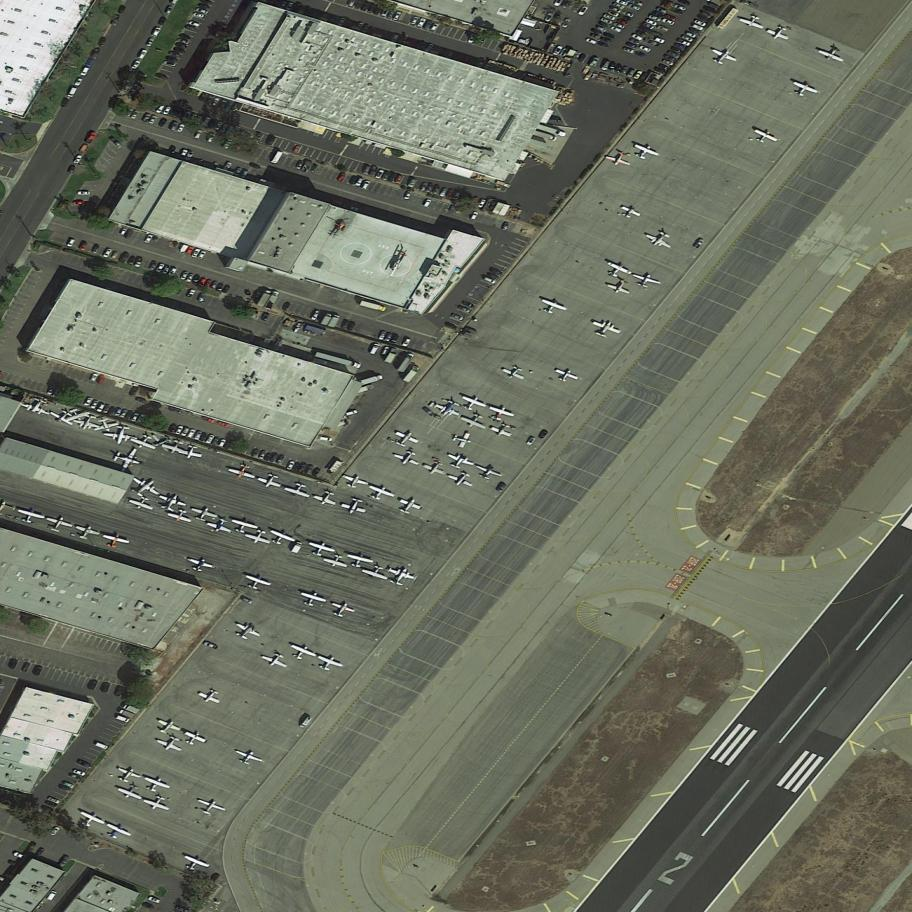large-vehicle: (313, 350, 363, 371), (531, 121, 567, 140), (397, 351, 416, 376), (325, 456, 346, 478), (402, 363, 421, 386), (356, 299, 388, 312), (525, 130, 559, 142), (263, 288, 280, 312), (354, 374, 385, 387), (382, 345, 400, 367), (345, 384, 375, 396), (257, 288, 272, 310), (121, 702, 142, 716), (269, 149, 285, 167), (290, 540, 304, 557), (117, 708, 136, 720), (299, 715, 313, 731), (328, 313, 341, 330), (368, 341, 381, 357), (482, 275, 498, 287), (321, 312, 332, 329), (45, 889, 58, 903), (67, 84, 79, 99), (339, 409, 359, 418), (115, 714, 131, 725), (94, 741, 109, 752), (317, 436, 335, 443)
plane: (123, 469, 167, 510), (108, 439, 147, 481), (152, 489, 191, 517), (642, 225, 679, 254), (383, 562, 420, 591), (430, 395, 465, 424), (706, 43, 742, 71), (147, 426, 178, 458), (102, 423, 140, 449), (587, 316, 624, 342), (285, 640, 320, 667), (193, 795, 229, 821), (139, 772, 175, 798), (231, 618, 264, 646), (101, 819, 135, 846), (628, 138, 662, 165), (153, 731, 188, 757), (389, 446, 424, 472), (19, 393, 55, 418), (46, 403, 79, 430), (74, 807, 108, 833), (264, 526, 299, 551), (787, 77, 822, 102), (231, 746, 267, 770), (365, 480, 398, 506), (41, 512, 76, 536), (258, 648, 293, 672), (390, 426, 422, 452), (128, 430, 161, 455), (179, 851, 212, 876), (179, 726, 212, 751), (601, 258, 634, 283), (445, 467, 478, 492), (444, 449, 477, 474), (458, 409, 491, 434), (240, 570, 274, 594), (816, 42, 850, 66), (187, 503, 222, 526), (313, 651, 345, 676), (111, 764, 144, 788), (296, 587, 329, 611), (456, 392, 489, 416), (498, 361, 531, 385), (629, 270, 663, 293), (243, 525, 275, 549), (749, 125, 781, 149), (14, 505, 47, 528), (71, 412, 104, 435), (141, 792, 174, 815), (115, 781, 148, 804), (536, 296, 569, 319), (282, 479, 315, 502), (339, 471, 372, 494), (472, 461, 505, 484), (484, 402, 517, 425), (182, 555, 218, 576), (395, 493, 425, 518), (227, 516, 261, 538), (153, 715, 184, 739), (327, 598, 358, 622), (255, 469, 286, 493), (159, 436, 191, 459), (99, 530, 132, 552), (226, 461, 259, 483), (339, 495, 369, 519), (71, 521, 102, 544), (205, 515, 237, 537), (127, 492, 159, 514), (360, 561, 392, 583), (304, 539, 337, 560), (196, 685, 226, 708), (551, 365, 582, 387), (421, 457, 450, 480), (343, 551, 376, 571), (165, 505, 196, 526), (62, 404, 93, 425), (603, 149, 634, 170), (90, 415, 122, 435), (606, 276, 635, 298), (765, 22, 794, 44), (312, 487, 341, 509), (488, 419, 517, 441), (321, 551, 351, 572), (737, 12, 768, 32), (618, 202, 644, 222), (451, 430, 475, 451), (178, 444, 205, 462)
small-vehicle: (80, 392, 96, 409), (550, 43, 564, 59), (57, 854, 71, 870), (202, 639, 220, 651), (110, 135, 124, 150), (177, 146, 190, 162), (179, 423, 192, 439), (238, 595, 255, 607), (536, 427, 550, 441), (220, 137, 233, 152), (405, 177, 418, 192), (379, 5, 392, 20), (543, 8, 556, 23), (118, 250, 131, 265), (185, 427, 198, 442), (496, 479, 509, 494), (702, 4, 719, 15), (143, 36, 156, 50), (437, 187, 450, 201), (693, 237, 706, 251), (184, 286, 197, 300), (109, 248, 122, 262), (135, 412, 148, 426), (87, 371, 100, 385), (524, 434, 537, 448), (467, 31, 479, 46), (559, 15, 571, 30), (576, 3, 588, 18), (72, 152, 84, 167), (699, 8, 714, 20), (309, 308, 321, 323), (78, 759, 94, 770), (669, 46, 686, 56), (195, 250, 208, 263), (130, 58, 142, 72), (366, 1, 378, 15), (374, 168, 386, 182), (423, 42, 435, 56), (85, 131, 97, 145), (149, 25, 161, 39), (31, 664, 43, 678), (100, 681, 112, 695), (95, 401, 107, 415), (89, 397, 101, 411), (215, 437, 227, 451), (184, 150, 195, 165), (430, 20, 441, 35), (666, 49, 681, 60), (26, 841, 37, 856), (697, 13, 712, 24), (196, 290, 207, 305), (190, 246, 201, 261), (649, 29, 665, 39), (290, 143, 302, 156), (422, 197, 434, 210), (49, 825, 61, 838), (87, 678, 99, 691), (123, 228, 135, 241), (143, 232, 155, 245), (64, 236, 76, 249), (45, 384, 57, 397), (182, 109, 193, 123), (137, 48, 148, 62), (218, 98, 229, 112), (361, 162, 372, 176), (469, 209, 480, 223), (222, 161, 233, 175), (386, 7, 397, 21), (560, 46, 571, 60), (589, 55, 600, 69), (626, 66, 637, 80), (114, 684, 125, 698), (636, 28, 650, 39), (184, 245, 195, 259), (161, 262, 172, 276), (210, 434, 221, 448), (168, 50, 183, 60), (68, 772, 83, 782), (57, 783, 72, 793), (47, 796, 62, 806), (612, 21, 627, 31), (627, 2, 642, 12), (599, 36, 614, 46), (634, 50, 649, 60), (457, 305, 472, 315), (201, 415, 216, 425), (278, 0, 290, 12), (676, 38, 692, 47), (649, 36, 667, 44), (449, 312, 465, 321), (130, 108, 141, 121), (205, 132, 216, 145), (294, 158, 305, 171), (475, 197, 486, 210), (423, 20, 434, 33), (21, 660, 32, 673), (35, 847, 46, 860), (631, 32, 644, 43), (118, 226, 129, 239), (102, 246, 113, 259), (133, 256, 144, 269), (168, 266, 179, 279), (118, 408, 129, 421), (128, 385, 139, 398), (269, 452, 280, 465), (248, 161, 262, 171), (141, 901, 155, 911), (662, 57, 676, 67), (62, 780, 76, 790), (168, 406, 182, 416), (657, 23, 671, 33), (665, 12, 679, 22), (653, 9, 667, 19), (175, 36, 190, 45), (162, 59, 177, 68), (654, 66, 669, 75), (673, 42, 688, 51), (680, 34, 695, 43), (683, 31, 698, 40), (688, 27, 703, 36), (147, 895, 162, 904), (14, 851, 29, 860), (594, 24, 609, 33), (606, 9, 621, 18), (661, 18, 676, 27), (584, 37, 599, 46), (489, 267, 504, 276), (486, 272, 501, 281), (462, 301, 477, 310), (194, 114, 205, 126), (124, 106, 135, 118), (354, 21, 365, 33), (156, 15, 167, 27), (68, 164, 79, 176), (633, 69, 644, 81), (210, 871, 221, 883), (348, 174, 359, 186), (206, 118, 217, 130), (112, 408, 123, 420), (214, 119, 224, 132), (169, 119, 179, 132), (193, 127, 203, 140), (298, 4, 308, 17), (381, 170, 391, 183), (394, 174, 404, 187), (419, 181, 429, 194), (390, 32, 400, 45), (90, 47, 100, 60), (361, 179, 371, 192), (577, 52, 587, 65), (601, 59, 611, 72), (694, 18, 707, 28), (469, 195, 479, 208), (588, 31, 601, 41), (378, 329, 388, 342), (155, 262, 165, 275), (192, 272, 202, 285), (174, 424, 184, 437), (168, 422, 178, 435), (130, 411, 140, 424), (124, 410, 134, 423), (107, 405, 117, 418), (101, 403, 111, 416), (199, 431, 209, 444), (311, 466, 321, 479), (275, 453, 285, 466), (174, 42, 190, 50), (72, 769, 88, 777), (173, 45, 187, 54), (156, 72, 170, 81), (226, 100, 235, 114), (410, 14, 419, 28), (591, 27, 605, 36), (621, 10, 635, 19), (149, 400, 163, 409), (649, 14, 663, 23), (596, 40, 610, 49), (299, 463, 310, 474), (285, 1, 295, 13), (254, 132, 264, 144), (178, 32, 193, 40), (211, 97, 221, 109), (336, 171, 346, 183), (388, 172, 398, 184), (446, 189, 456, 201), (417, 17, 427, 29), (199, 91, 209, 103), (85, 56, 95, 68), (355, 176, 365, 188), (390, 332, 400, 344), (203, 278, 213, 290), (148, 259, 158, 271), (179, 269, 189, 281), (97, 374, 107, 386), (193, 430, 203, 442), (205, 434, 215, 446), (286, 460, 296, 472), (185, 23, 198, 32), (393, 10, 402, 23), (608, 59, 617, 72), (620, 64, 629, 77), (603, 31, 616, 40), (639, 44, 652, 53), (642, 21, 655, 30), (222, 283, 231, 296), (196, 7, 210, 15), (691, 23, 705, 31), (610, 6, 624, 14), (613, 2, 627, 10), (646, 39, 660, 47), (670, 6, 684, 14), (674, 3, 688, 11), (657, 7, 671, 15), (660, 2, 674, 10), (217, 421, 231, 429), (158, 118, 168, 129), (205, 95, 215, 106), (162, 105, 172, 116), (233, 167, 243, 178), (240, 169, 250, 180), (451, 192, 461, 203), (97, 36, 107, 47), (74, 76, 84, 87), (402, 191, 412, 202), (175, 108, 185, 119), (215, 283, 225, 294), (202, 115, 211, 127), (220, 122, 229, 134), (141, 112, 150, 124), (149, 114, 158, 126), (189, 112, 198, 124), (156, 103, 165, 115), (337, 16, 346, 28), (369, 167, 378, 179), (111, 15, 120, 27), (9, 658, 18, 670), (198, 276, 207, 288), (127, 254, 136, 266), (186, 272, 195, 284), (341, 319, 350, 331), (263, 451, 272, 463), (258, 450, 267, 462), (252, 448, 261, 460), (658, 62, 671, 70), (663, 54, 676, 62), (600, 17, 613, 25), (604, 13, 617, 21), (609, 25, 622, 33), (80, 144, 90, 154), (78, 241, 88, 251), (177, 123, 186, 134), (501, 221, 510, 232), (164, 5, 173, 16), (384, 331, 393, 342), (402, 337, 411, 348), (91, 244, 100, 255), (347, 320, 356, 331), (306, 465, 315, 476), (293, 463, 302, 474), (550, 115, 562, 123), (193, 11, 205, 19), (189, 20, 201, 28), (267, 133, 275, 145), (426, 184, 434, 196), (362, 23, 370, 35), (615, 61, 623, 73), (617, 18, 629, 26), (7, 860, 19, 868), (646, 18, 658, 26), (309, 163, 318, 173), (261, 311, 270, 321), (60, 96, 68, 107), (626, 41, 637, 49), (210, 281, 218, 292), (433, 185, 440, 197), (135, 396, 147, 403), (169, 107, 177, 117), (623, 47, 635, 53), (118, 5, 125, 15), (81, 67, 88, 77), (72, 201, 86, 205), (78, 192, 90, 196)
